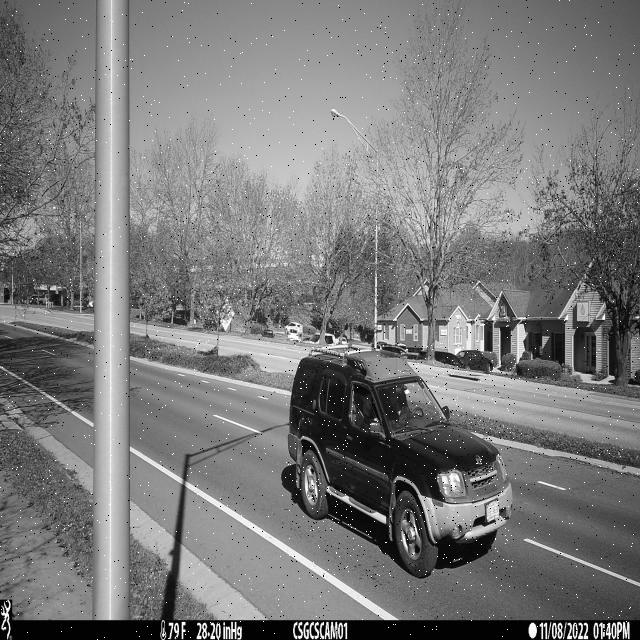SUV: (288, 343, 516, 579)
